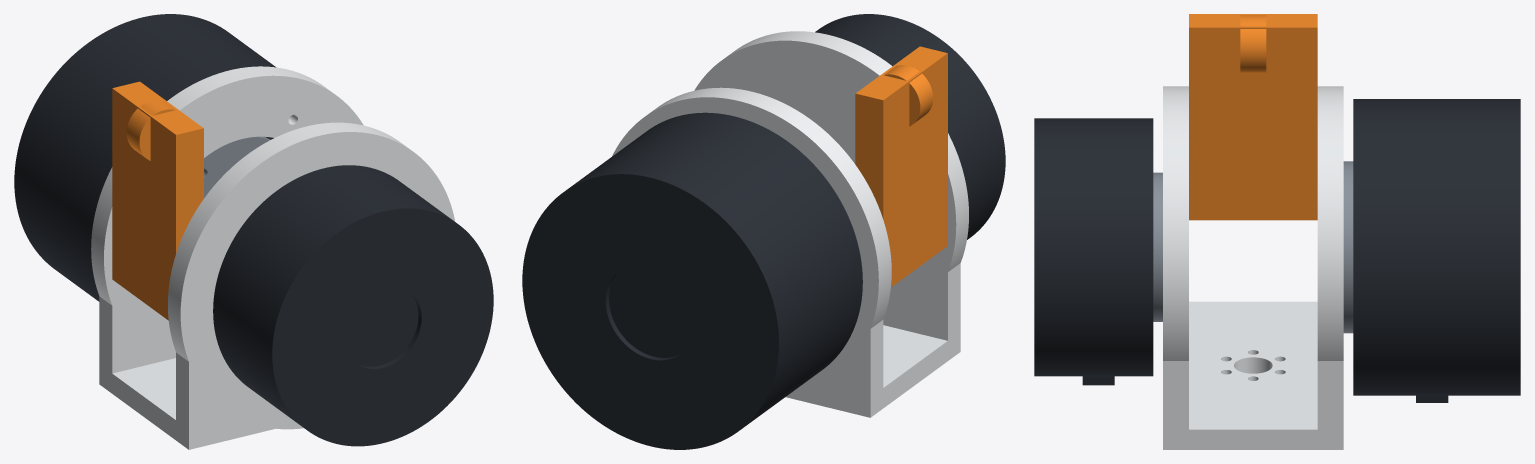
The model's file is turret.glb.
The picture shows the model from 3 angles, left to right: view 1: azimuth 30°, elevation 25°; view 2: azimuth 150°, elevation 25°; view 3: azimuth 270°, elevation 25°; orthographic projection.
Visible parts, largest first — view 1: actuator (×2), turret cheek, elbow side (printed), turret cheek, shoulder side (printed), spring pulley mast (printed), turret plate (printed), actuator output; view 2: actuator (×2), turret cheek, elbow side (printed), spring pulley mast (printed), turret cheek, shoulder side (printed), turret plate (printed); view 3: actuator (×2), spring pulley mast (printed), turret plate (printed), turret cheek, shoulder side (printed), turret cheek, elbow side (printed), actuator output (×2).
Part boxes in pixels (x1,y1,x2,y2): actuator (×2): (14, 14, 493, 446); turret cheek, elbow side (printed): (168, 122, 454, 436); turret cheek, shoulder side (printed): (91, 66, 363, 377); spring pulley mast (printed): (112, 81, 203, 320); turret plate (printed): (99, 358, 297, 449); actuator output: (204, 136, 270, 197); actuator (×2): (522, 14, 1005, 449); turret cheek, elbow side (printed): (694, 31, 968, 344); spring pulley mast (printed): (855, 46, 947, 287); turret cheek, shoulder side (printed): (612, 87, 891, 411); turret plate (printed): (785, 325, 960, 417); actuator (×2): (1034, 99, 1520, 402); spring pulley mast (printed): (1189, 14, 1317, 220); turret plate (printed): (1163, 301, 1343, 449); turret cheek, shoulder side (printed): (1317, 86, 1343, 443); turret cheek, elbow side (printed): (1163, 86, 1188, 443); actuator output (×2): (1153, 161, 1353, 333).
Size of the model in its own units: 0.101 by 0.109 by 0.151.
